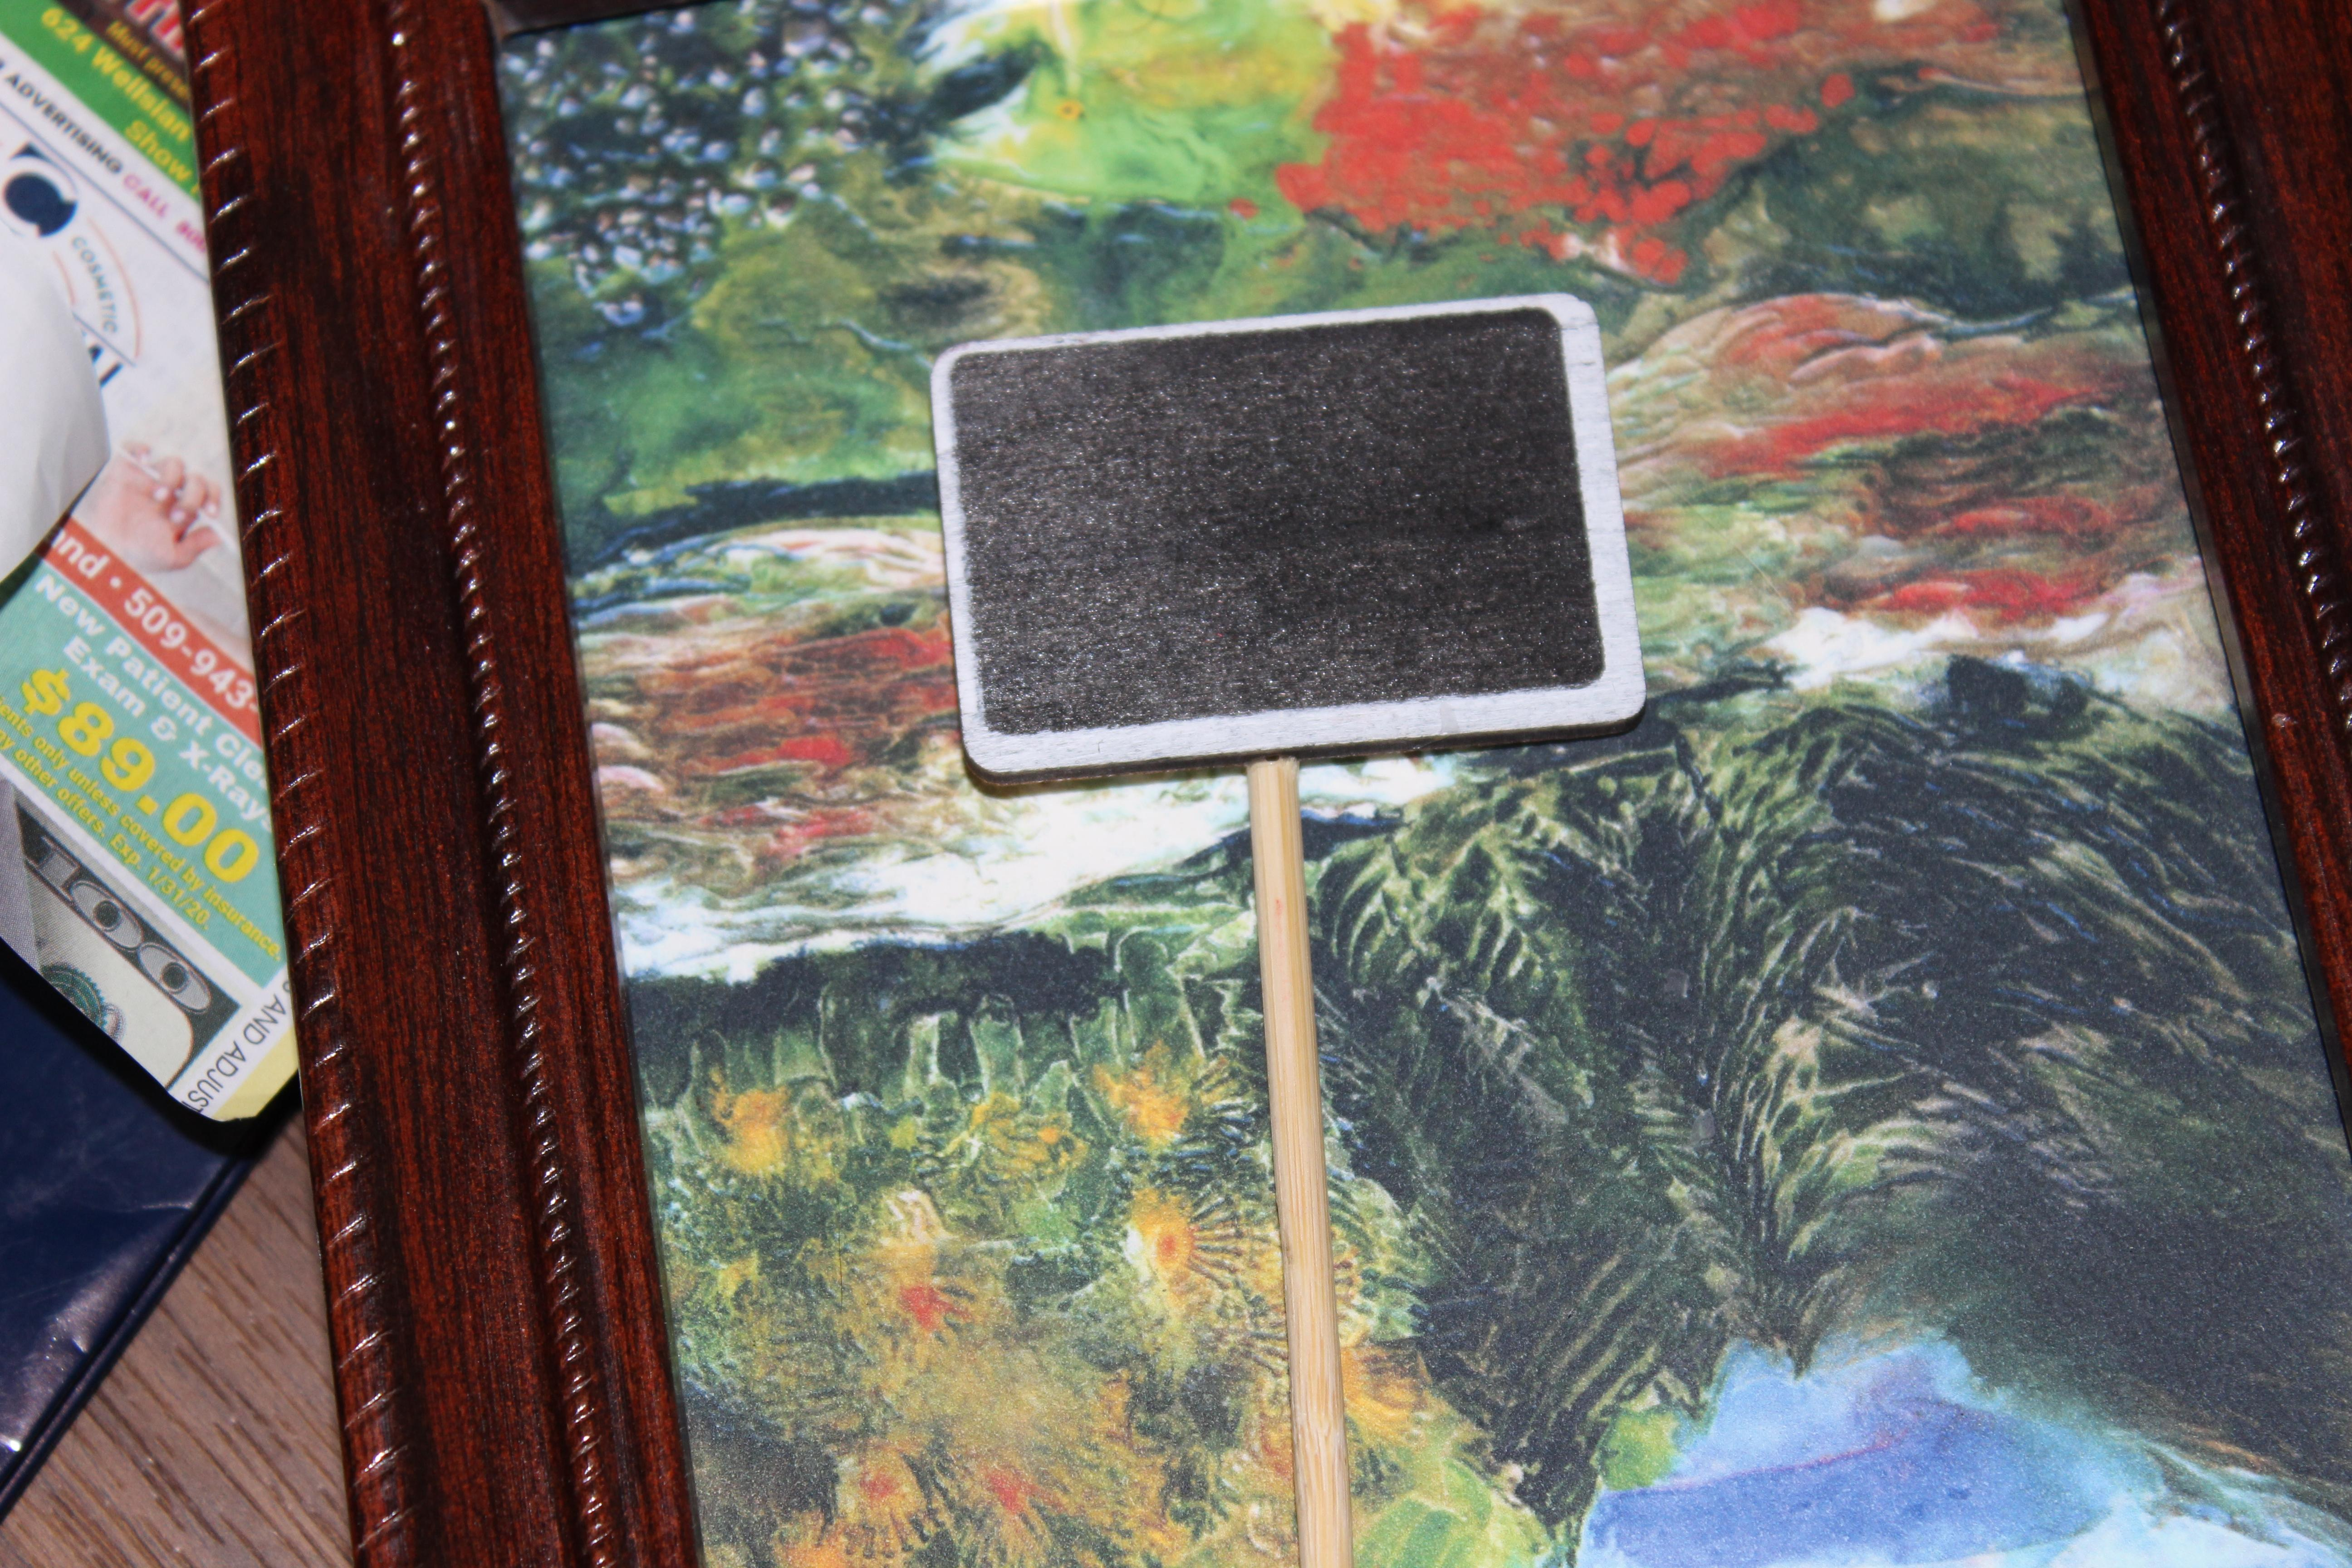sign: (898, 278, 1682, 1568)
